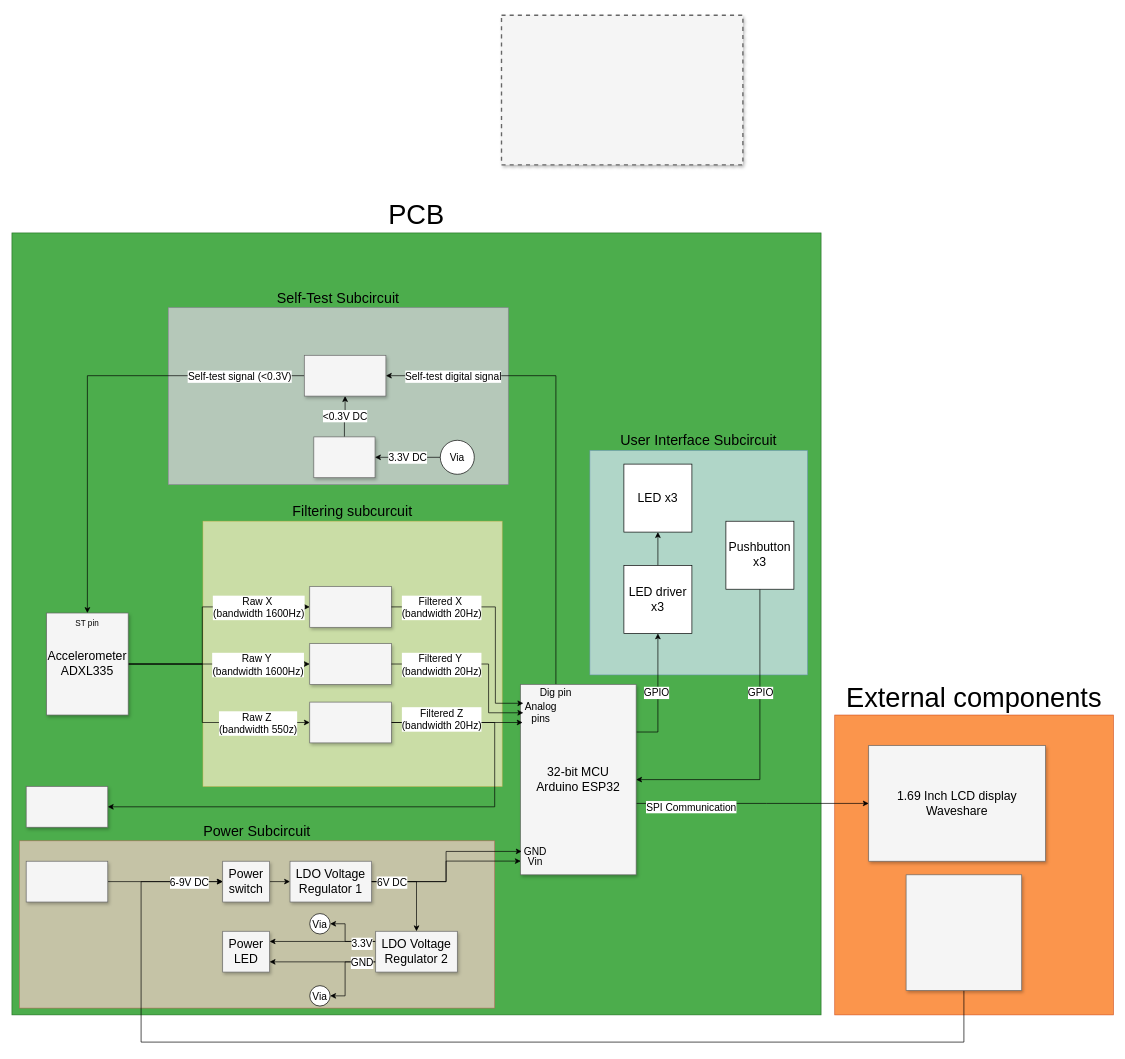
The diagram is 1125 pixels wide and 1059 high, and some of its shapes have lost their labels. Here are the shapes that lost their labels. From the top down, the centre of each, then its label:
At point (622, 91): "GarMen StepTracker".
At point (345, 376): "HS switch (P-MOSFET)".
At point (344, 458): "Voltage divider".
At point (350, 607): "Analogue filter X".
At point (350, 664): "Analogue filter Y".
At point (350, 723): "Analogue filter Z".
At point (67, 807): "BNC connector".
At point (67, 882): "Power barrel connector".
At point (964, 933): "7.4V Lipo Battery 2800mAh ARROWMAX".
